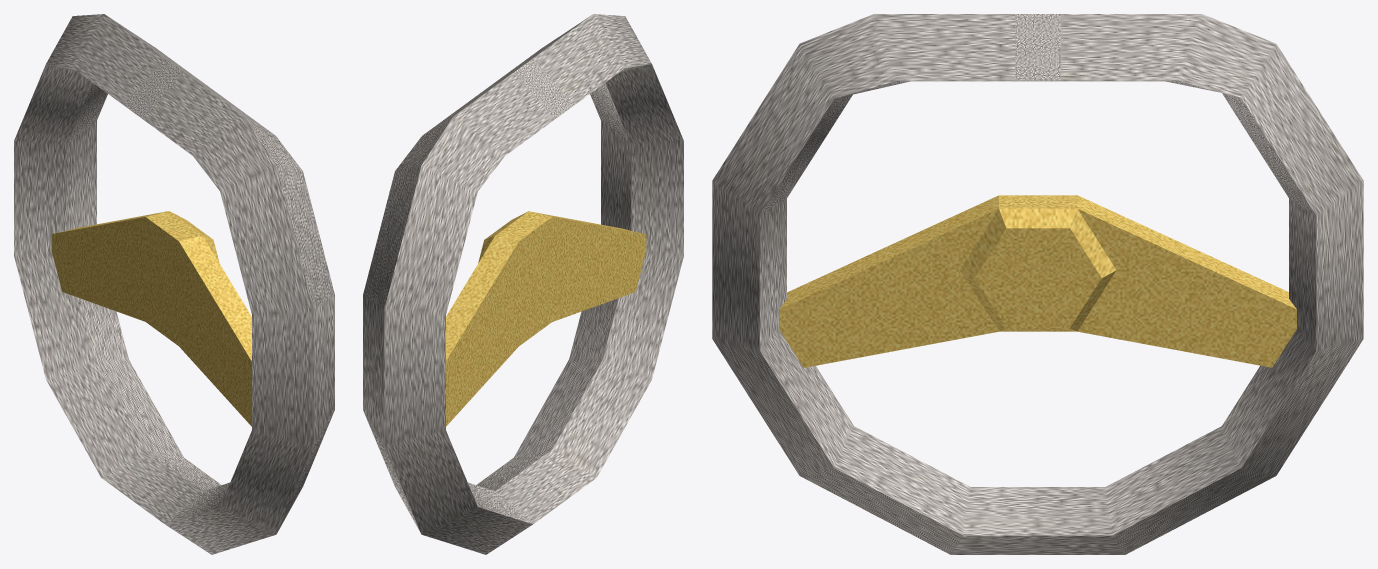
3 renders of one model, left to right at view 1: azimuth 30°, elevation 25°; view 2: azimuth 150°, elevation 25°; view 3: azimuth 270°, elevation 25°, orthographic. The views are drawn at different scales.
Visible parts, largest first — view 1: Wheel_4, INT_WHEEL_006; view 2: Wheel_4, INT_WHEEL_006; view 3: Wheel_4, INT_WHEEL_006.
Boxes of the visible parts, left/top/right/bottom form: Wheel_4: left=14, top=14, right=334, bottom=554; INT_WHEEL_006: left=51, top=211, right=251, bottom=426; Wheel_4: left=363, top=14, right=683, bottom=554; INT_WHEEL_006: left=446, top=211, right=646, bottom=426; Wheel_4: left=712, top=14, right=1363, bottom=554; INT_WHEEL_006: left=779, top=195, right=1296, bottom=367.
Size of the model in its own units: 0.4946 by 2.63 by 2.87.
2 materials, 2 textured.
